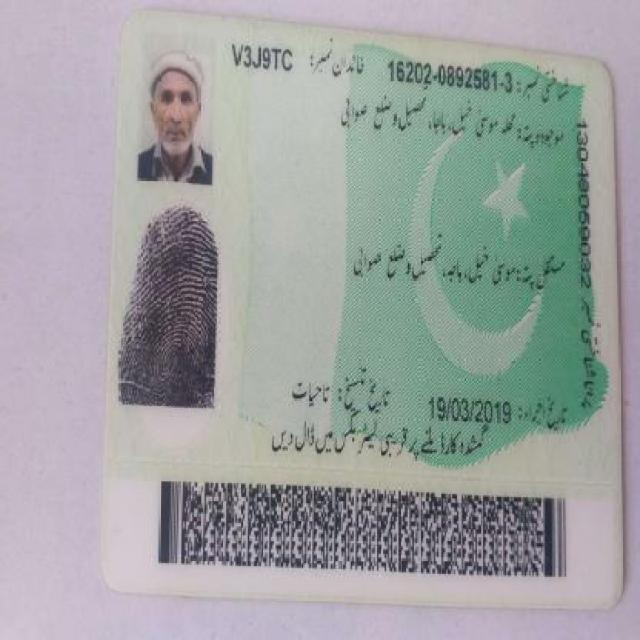Back: (96, 26, 624, 609)
